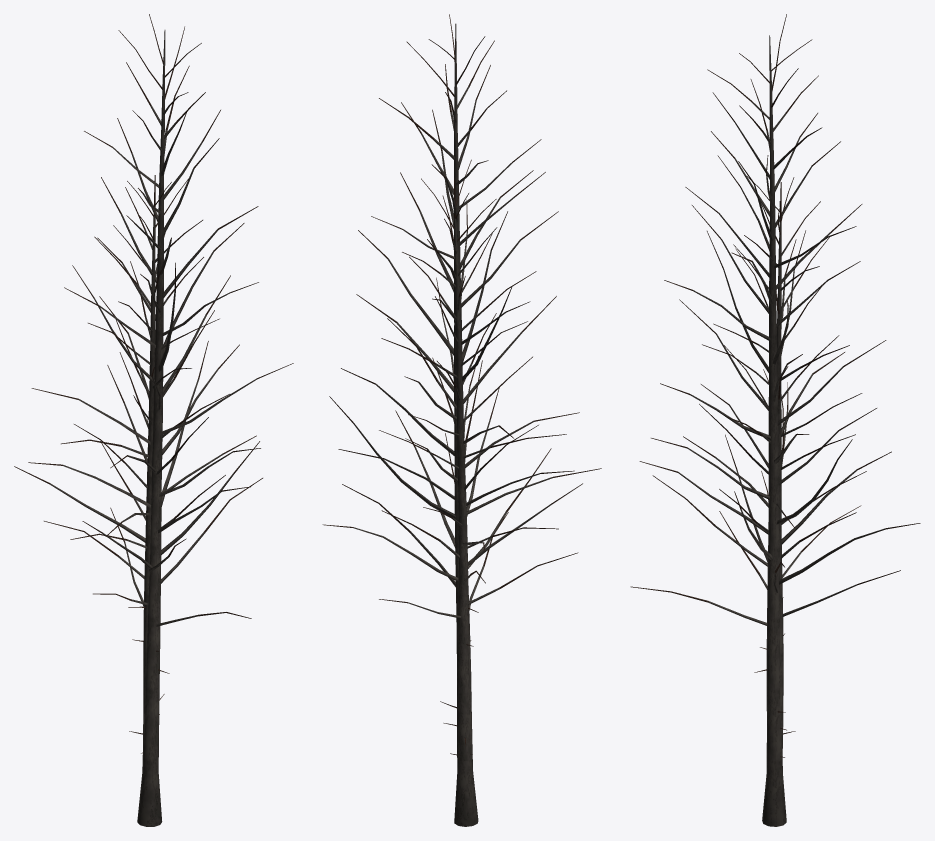
Rendered from alder_wood.glb.
The picture shows the model from 3 angles, left to right: view 1: azimuth 30°, elevation 25°; view 2: azimuth 150°, elevation 25°; view 3: azimuth 270°, elevation 25°; orthographic projection.
Visible parts, largest first — view 1: alder_a, alder_b; view 2: alder_a, alder_b; view 3: alder_a, alder_b.
Part boxes in pixels (x1,y1,x2,y2): alder_a: (14,14,293,826); alder_b: (44,175,262,753); alder_a: (322,14,582,826); alder_b: (338,159,601,761); alder_a: (639,14,920,826); alder_b: (630,176,900,757).
Size of the model in its own units: 4.94 by 16.06 by 5.31.
2 materials, 2 textured.
